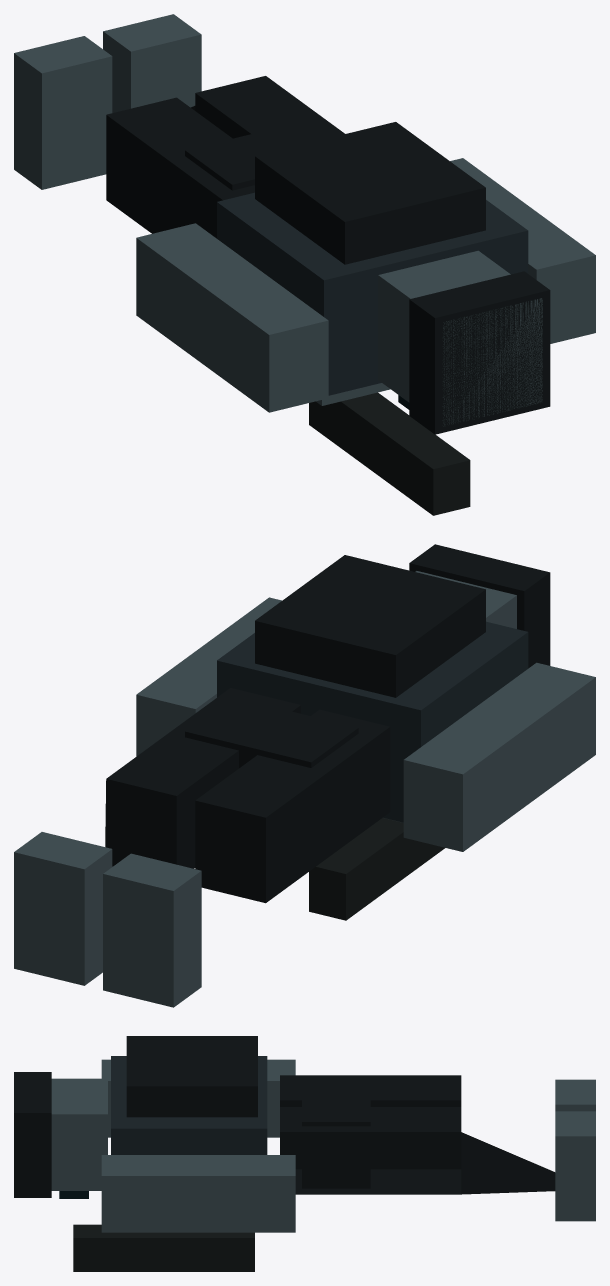
The model's file is cargo-deck-operator.obj.
The picture shows the model from 3 angles, top to bottom: view 1: azimuth 30°, elevation 25°; view 2: azimuth 150°, elevation 25°; view 3: azimuth 270°, elevation 25°; orthographic projection. The views are drawn at different scales.
Visible parts, largest first — view 1: LArm, BackPack, Helmet, Torso, LBoot, LLeg, Head, Weapon, RArm, RBoot, RLeg, Pelvis; view 2: LArm, LLeg, BackPack, Torso, LBoot, RLeg, RBoot, Weapon, Pelvis, RArm, Helmet, Head; view 3: RArm, RLeg, BackPack, Torso, Weapon, Pelvis, Head, Helmet, RBoot, LLeg, LArm, LBoot.
Boxes of the visible parts, x1,y1,x2,y2 form: LArm: (136, 223, 328, 412); BackPack: (255, 122, 485, 264); Helmet: (409, 271, 550, 434); Torso: (217, 192, 528, 395); LBoot: (14, 36, 112, 189); LLeg: (106, 97, 254, 238); Head: (378, 250, 542, 426); Weapon: (309, 392, 470, 515); RArm: (450, 158, 595, 343); RBoot: (103, 14, 201, 112); RLeg: (191, 76, 344, 138); Pelvis: (185, 119, 334, 190); LArm: (403, 662, 595, 851); LLeg: (195, 709, 390, 903); BackPack: (255, 555, 485, 697); Torso: (217, 621, 528, 822); LBoot: (103, 853, 201, 1007); RLeg: (105, 688, 300, 868); RBoot: (14, 832, 112, 985); Weapon: (309, 818, 444, 920); Pelvis: (185, 697, 358, 768); RArm: (136, 597, 281, 756); Helmet: (409, 544, 550, 668); Head: (415, 571, 516, 628); RArm: (101, 1155, 295, 1232); RLeg: (280, 1107, 555, 1194); BackPack: (126, 1036, 257, 1117); Torso: (111, 1056, 267, 1154); Weapon: (73, 1224, 254, 1271); Pelvis: (302, 1077, 370, 1188); Head: (51, 1078, 107, 1190); Helmet: (14, 1072, 51, 1197); RBoot: (555, 1111, 595, 1221); LLeg: (280, 1075, 461, 1106); LArm: (101, 1059, 295, 1137); LBoot: (555, 1079, 595, 1111).
Bounding box in the file's own units: 0.88 × 0.72 × 1.86.
